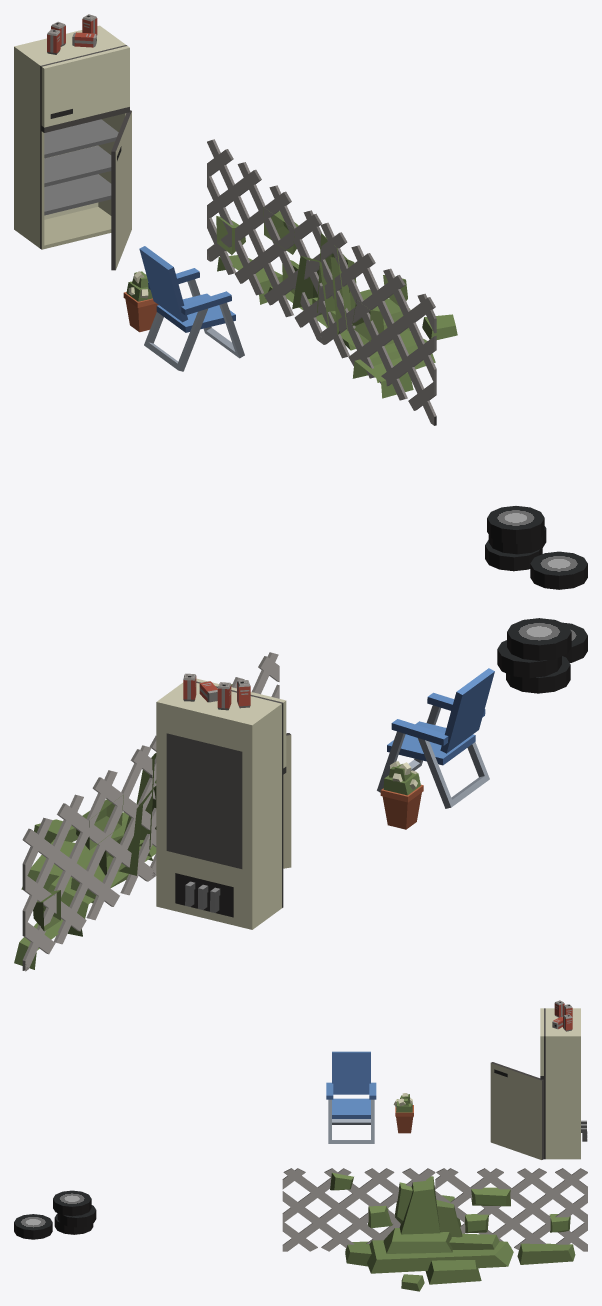
The model's file is SA_Bld_Trailer_Extras_01.gltf.
3 views of the same model, one above another, from view 1: azimuth 30°, elevation 25°; view 2: azimuth 150°, elevation 25°; view 3: azimuth 270°, elevation 25° (orthographic). The views are drawn at different scales.
Visible parts, largest first — view 1: SA_Bld_Trailer_Extras_01; view 2: SA_Bld_Trailer_Extras_01; view 3: SA_Bld_Trailer_Extras_01.
Boxes of the visible parts, x1,y1,x2,y2 form: SA_Bld_Trailer_Extras_01: (14, 14, 587, 589); SA_Bld_Trailer_Extras_01: (14, 618, 587, 971); SA_Bld_Trailer_Extras_01: (14, 1000, 587, 1291).
Size of the model in its own units: 6.13 by 4.93 by 13.04.
Materials: 1 (1 with a texture image).
